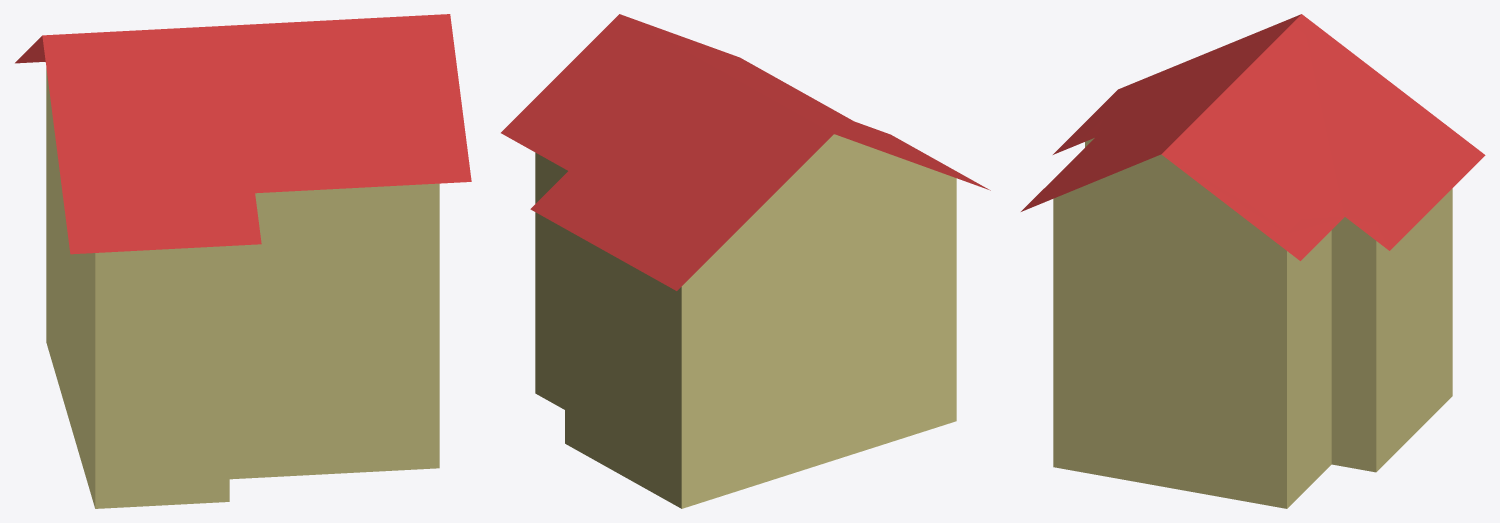
3 views of the same model, side by side, from view 1: azimuth 30°, elevation 25°; view 2: azimuth 150°, elevation 25°; view 3: azimuth 270°, elevation 25° (orthographic). The views are drawn at different scales.
Parts seen in each view (by area): view 1: group_5, group_3, group_4; view 2: group_5, group_3, group_4; view 3: group_5, group_3, group_4.
Part boxes in pixels (bbox=[...]): group_5: bbox=[46, 68, 439, 508]; group_3: bbox=[19, 14, 453, 254]; group_4: bbox=[15, 15, 471, 254]; group_5: bbox=[535, 134, 956, 508]; group_3: bbox=[535, 14, 988, 290]; group_4: bbox=[501, 15, 990, 290]; group_5: bbox=[1053, 138, 1452, 508]; group_3: bbox=[1041, 14, 1485, 258]; group_4: bbox=[1021, 14, 1484, 260].
Bounding box in the file's own units: 14 × 13.9 × 11.32.
